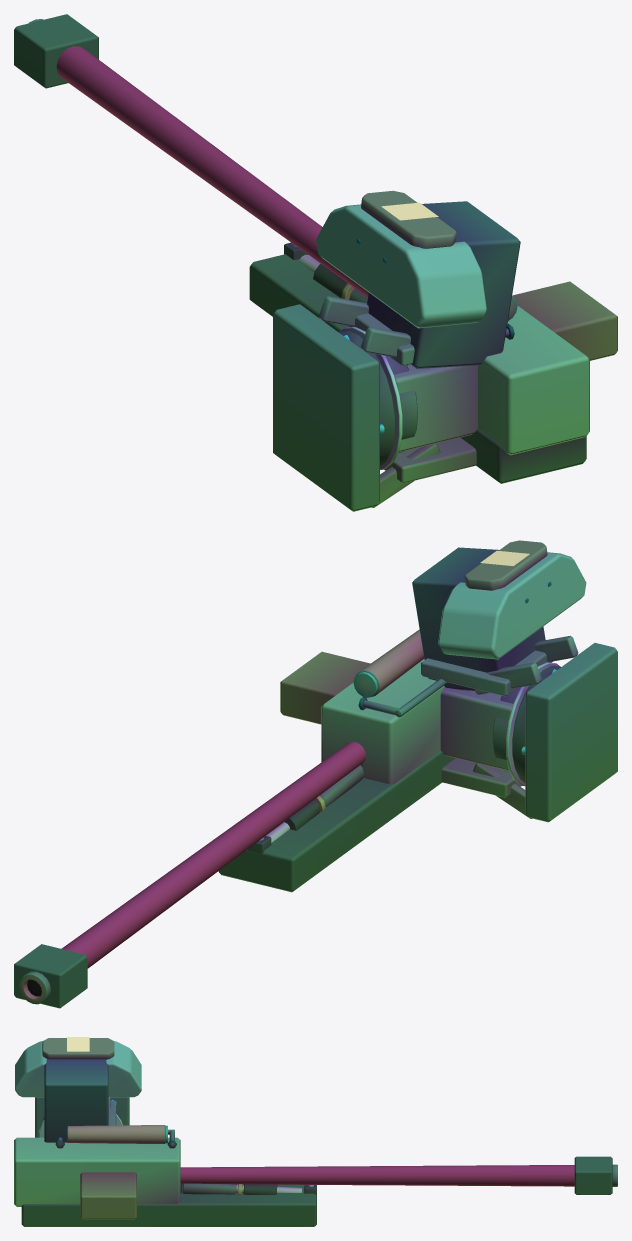
Rendered from arm_ntw57.glb.
3 renders of one model, top to bottom at view 1: azimuth 30°, elevation 25°; view 2: azimuth 150°, elevation 25°; view 3: azimuth 270°, elevation 25°, orthographic. The views are drawn at different scales.
Visible parts, largest first — view 1: Body__gunmetal, Body__armor, Body__dark, Body__armor_oxide, Body__armor_sub, Body__chrome; view 2: Body__gunmetal, Body__armor, Body__dark, Body__armor_sub, Body__armor_oxide, Body__chrome; view 3: Body__dark, Body__armor, Body__gunmetal, Body__armor_oxide, Body__rubber, Body__chrome, Body__decal.
Part boxes in pixels (x1=…): Body__gunmetal: x1=28, y1=19, x2=517, y2=511; Body__armor: x1=316, y1=204, x2=589, y2=455; Body__dark: x1=14, y1=14, x2=586, y2=483; Body__armor_oxide: x1=361, y1=190, x2=617, y2=360; Body__armor_sub: x1=319, y1=296, x2=476, y2=507; Body__chrome: x1=292, y1=243, x2=402, y2=469; Body__gunmetal: x1=19, y1=629, x2=617, y2=1004; Body__armor: x1=321, y1=552, x2=586, y2=783; Body__dark: x1=14, y1=547, x2=560, y2=1008; Body__armor_sub: x1=421, y1=635, x2=578, y2=818; Body__armor_oxide: x1=280, y1=540, x2=547, y2=724; Body__chrome: x1=259, y1=662, x2=559, y2=842; Body__dark: x1=21, y1=1058, x2=612, y2=1226; Body__armor: x1=14, y1=1040, x2=180, y2=1206; Body__gunmetal: x1=35, y1=1097, x2=617, y2=1194; Body__armor_oxide: x1=42, y1=1038, x2=136, y2=1219; Body__rubber: x1=243, y1=1184, x2=277, y2=1194; Body__chrome: x1=38, y1=1099, x2=313, y2=1192; Body__decal: x1=67, y1=1037, x2=89, y2=1051.
Size of the model in its own units: 1.1 by 0.9269 by 3.19.
